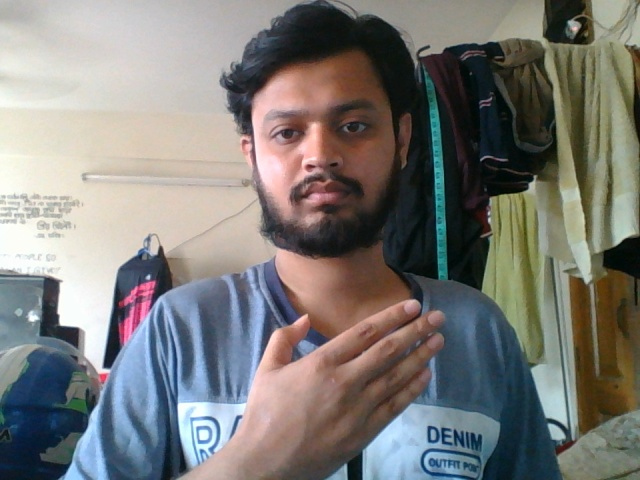ami: (228, 295, 450, 470)
